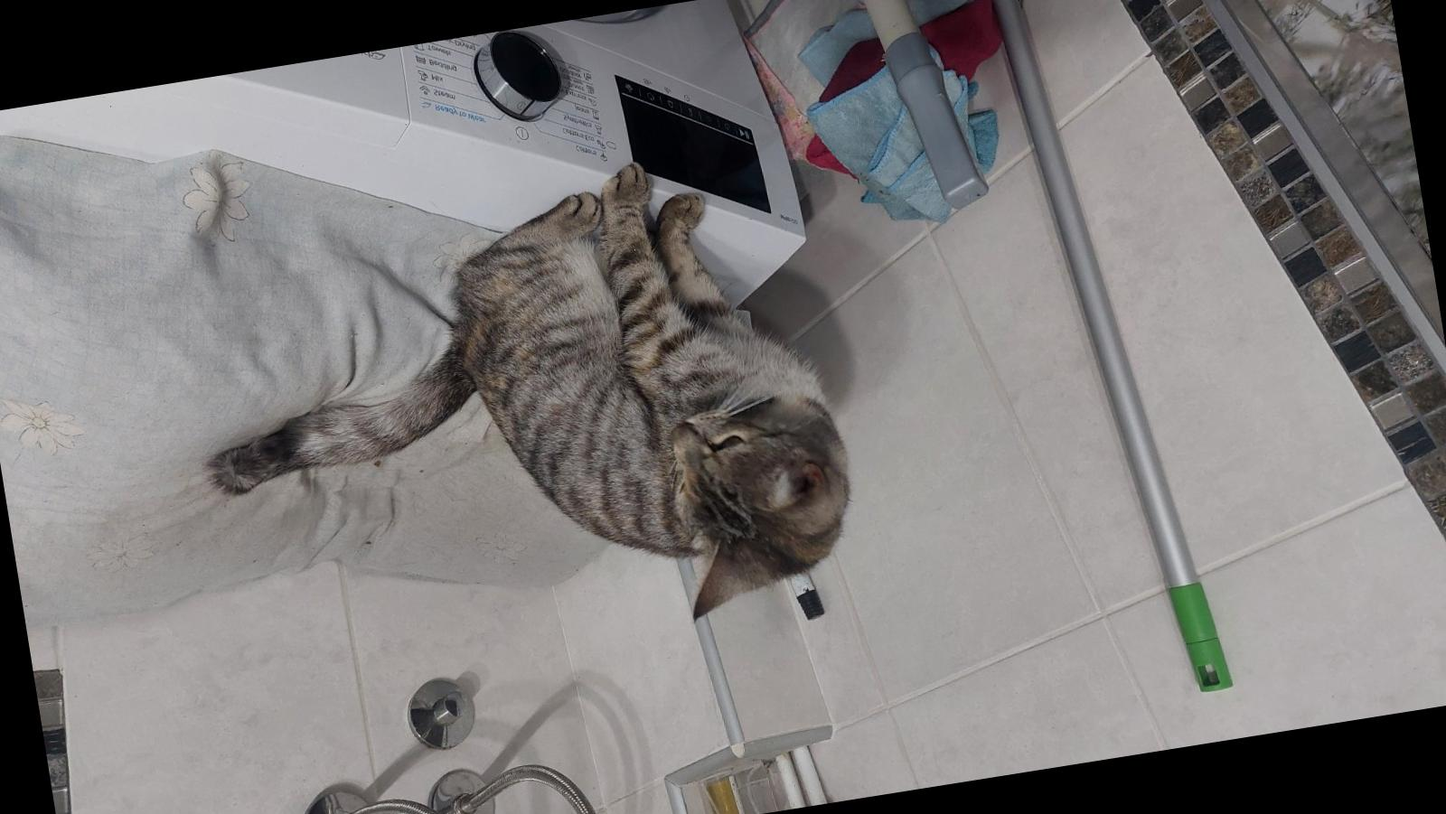macka: (175, 136, 871, 691)
